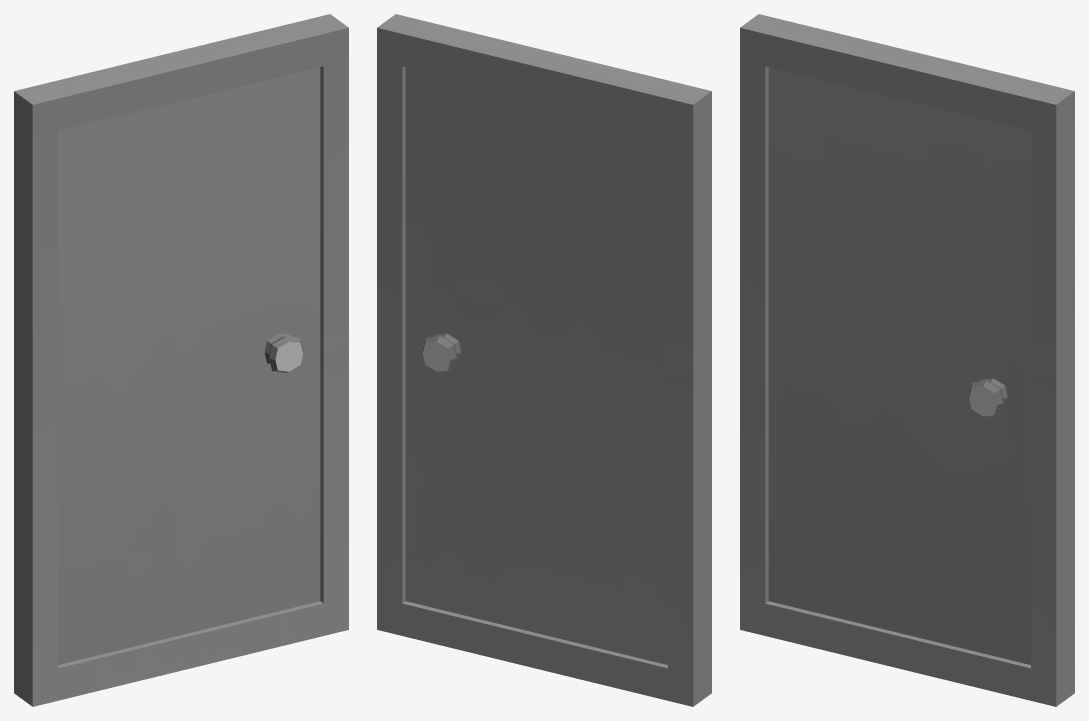
The model's file is door_2.obj.
3 renders of one model, left to right at view 1: azimuth 30°, elevation 25°; view 2: azimuth 150°, elevation 25°; view 3: azimuth 330°, elevation 25°, orthographic.
Visible parts, largest first — view 1: door_2_Material; view 2: door_2_Material; view 3: door_2_Material.
Boxes of the visible parts, box(x1,y1,x2,y2) form: door_2_Material: box(14, 14, 348, 706); door_2_Material: box(377, 14, 711, 706); door_2_Material: box(740, 14, 1074, 706).
Size of the model in its own units: 0.8007 by 1.46 by 0.1413.
